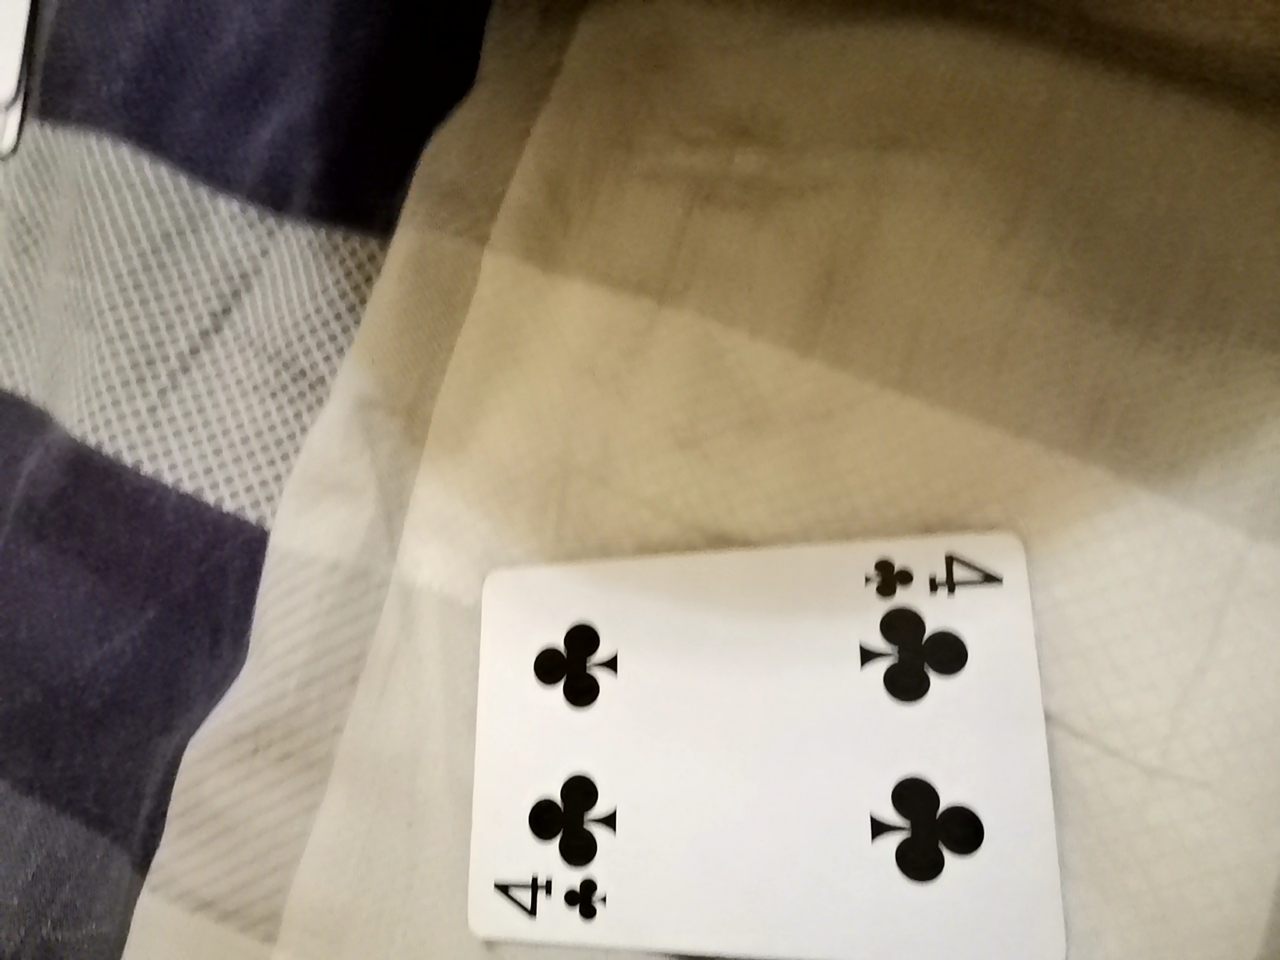mh 4: (472, 521, 1071, 956)
